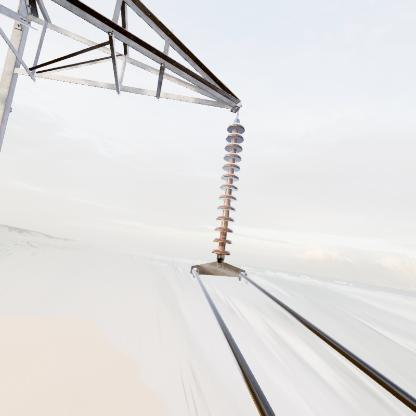insulator: (207, 120, 249, 263)
